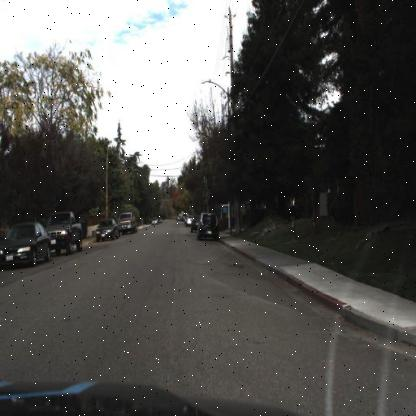car: (46, 200, 90, 262), (1, 220, 52, 269), (197, 209, 221, 243), (93, 214, 118, 246), (116, 208, 139, 236), (188, 212, 198, 239)
